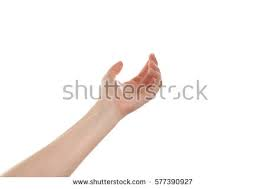hand: (88, 48, 178, 121)
